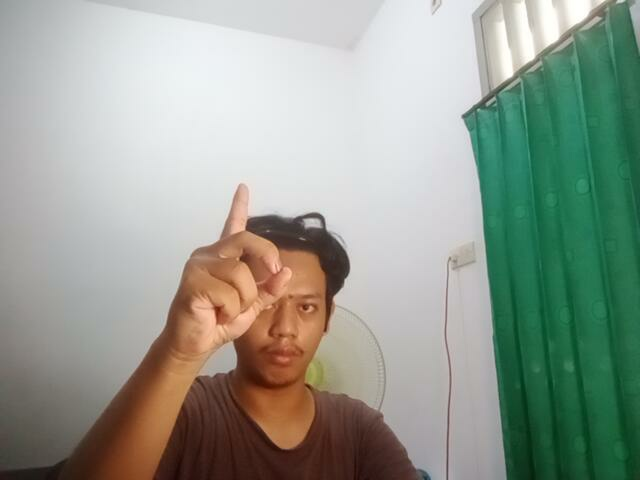D: (162, 176, 296, 369)
